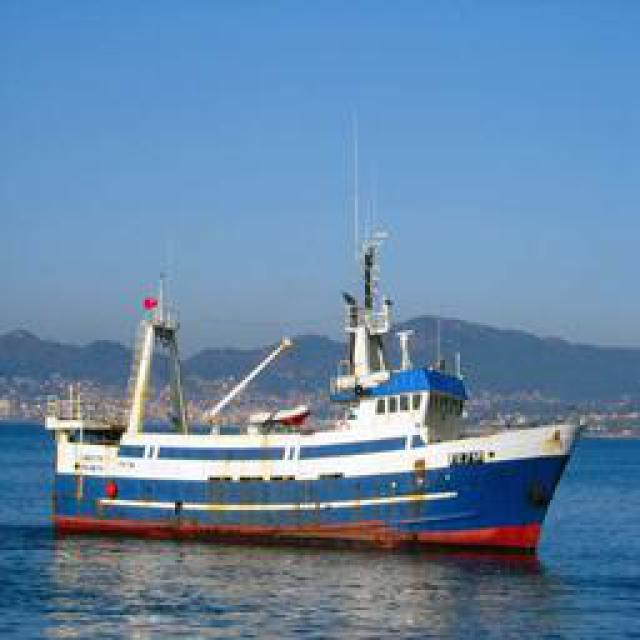Ship: (49, 135, 572, 545)
